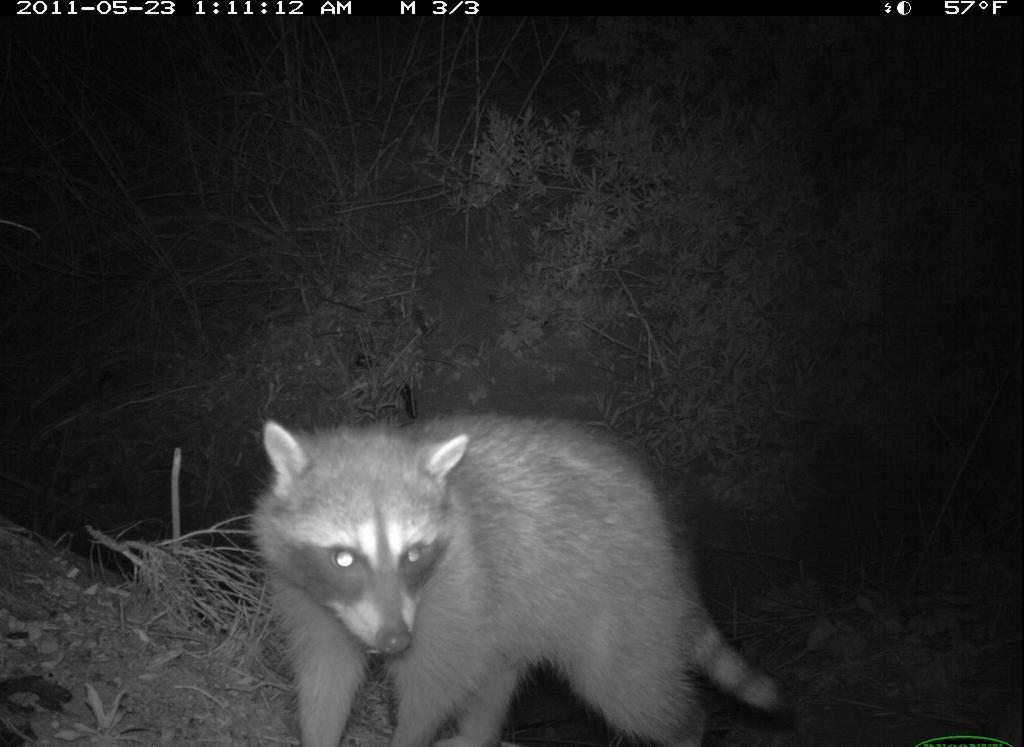raccoon: (251, 409, 777, 747)
